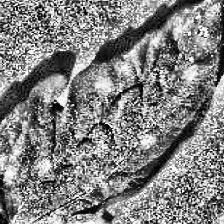leaf mold: (0, 0, 222, 223)
